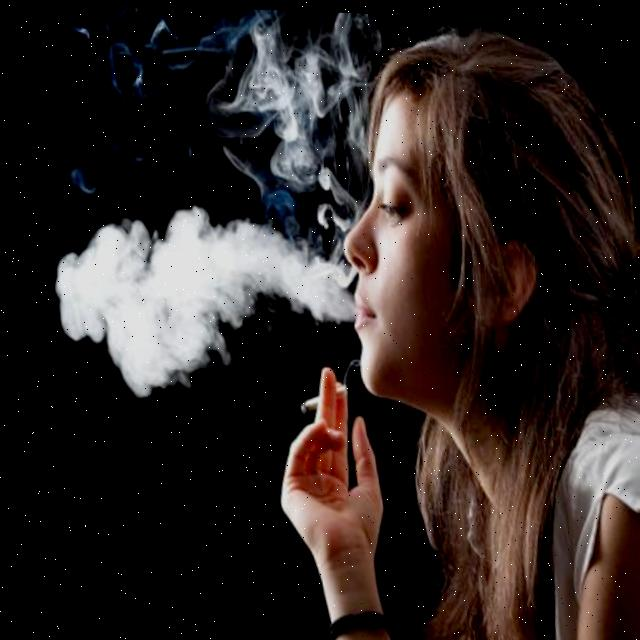cigarette: (290, 380, 343, 415)
